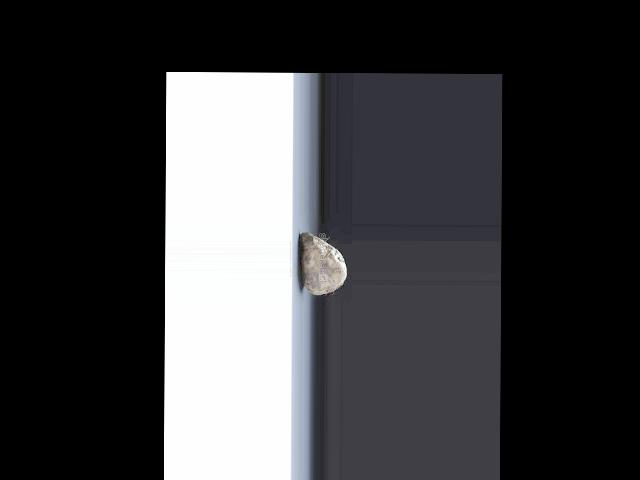beet: (299, 233, 346, 296)
